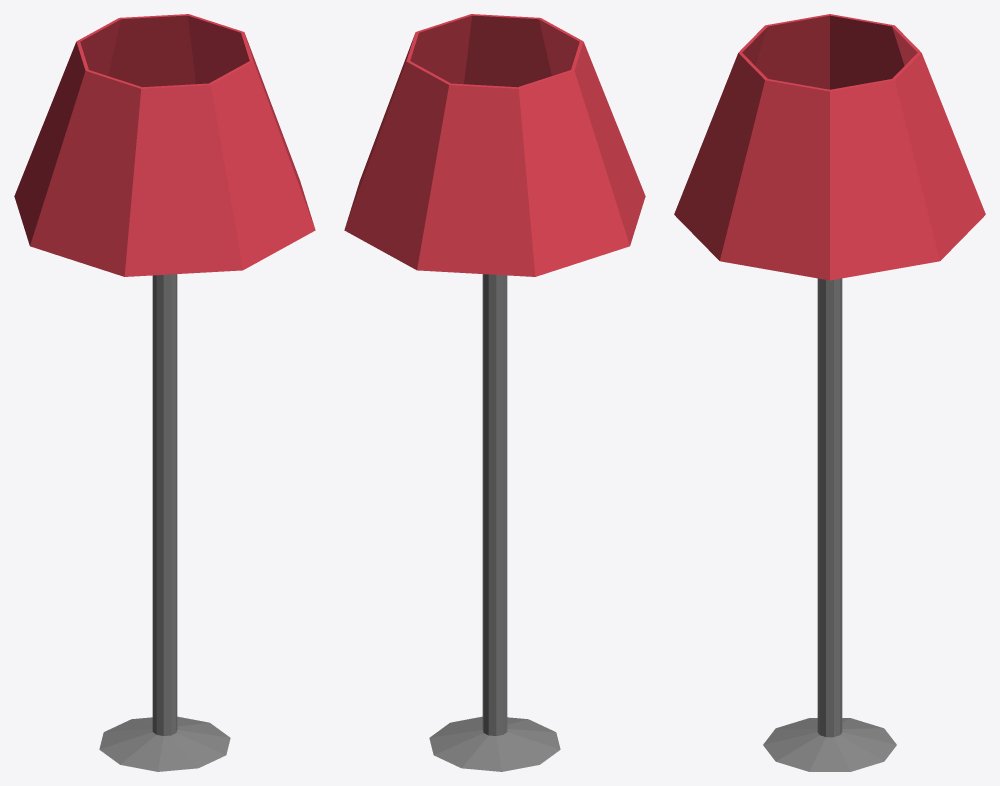
The model's file is lamp.glb.
3 renders of one model, left to right at view 1: azimuth 30°, elevation 25°; view 2: azimuth 150°, elevation 25°; view 3: azimuth 270°, elevation 25°, orthographic.
Visible parts, largest first — view 1: Circle.001_3; view 2: Circle.001_3; view 3: Circle.001_3.
Boxes of the visible parts, <box> form: Circle.001_3: <box>14,14,315,771</box>; Circle.001_3: <box>344,14,645,771</box>; Circle.001_3: <box>674,14,985,771</box>.
Size of the model in its own units: 0.6083 by 1.49 by 0.6083.
